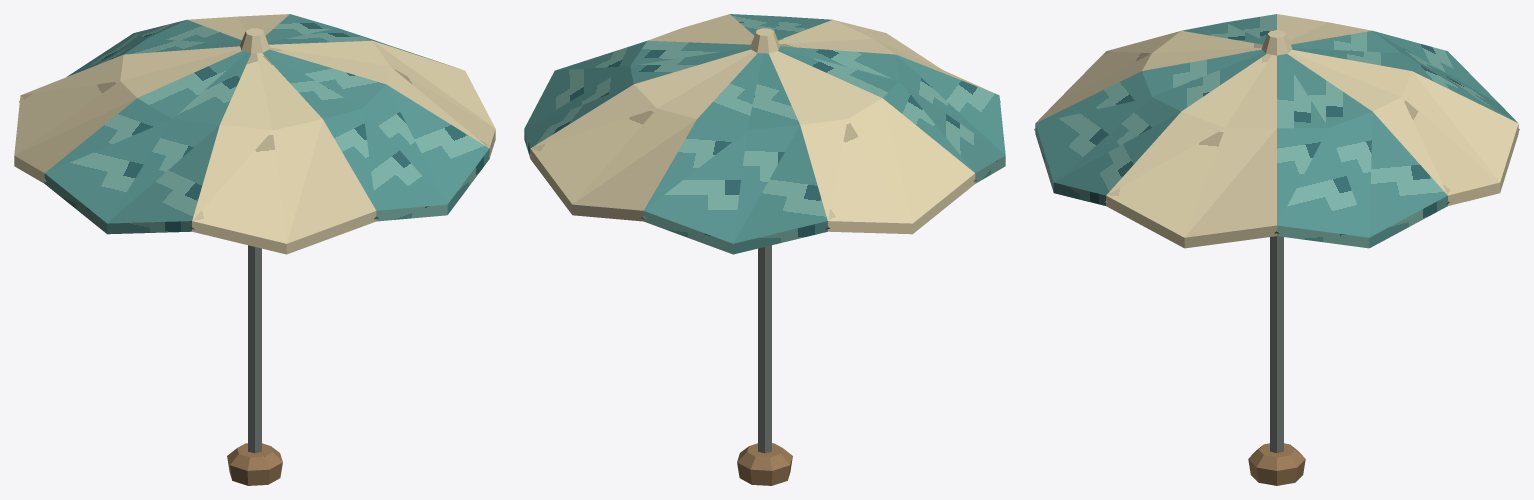
Rendered from umbrella-teal.glb.
3 renders of one model, left to right at view 1: azimuth 30°, elevation 25°; view 2: azimuth 150°, elevation 25°; view 3: azimuth 270°, elevation 25°, orthographic.
Visible parts, largest first — view 1: umbrella-teal; view 2: umbrella-teal; view 3: umbrella-teal.
Part boxes in pixels (x1,y1,x2,y2): umbrella-teal: (14, 14, 495, 485); umbrella-teal: (524, 14, 1005, 485); umbrella-teal: (1034, 14, 1519, 485).
Bounding box in the file's own units: 2.19 × 2.19 × 2.19.
1 material, 1 textured.
